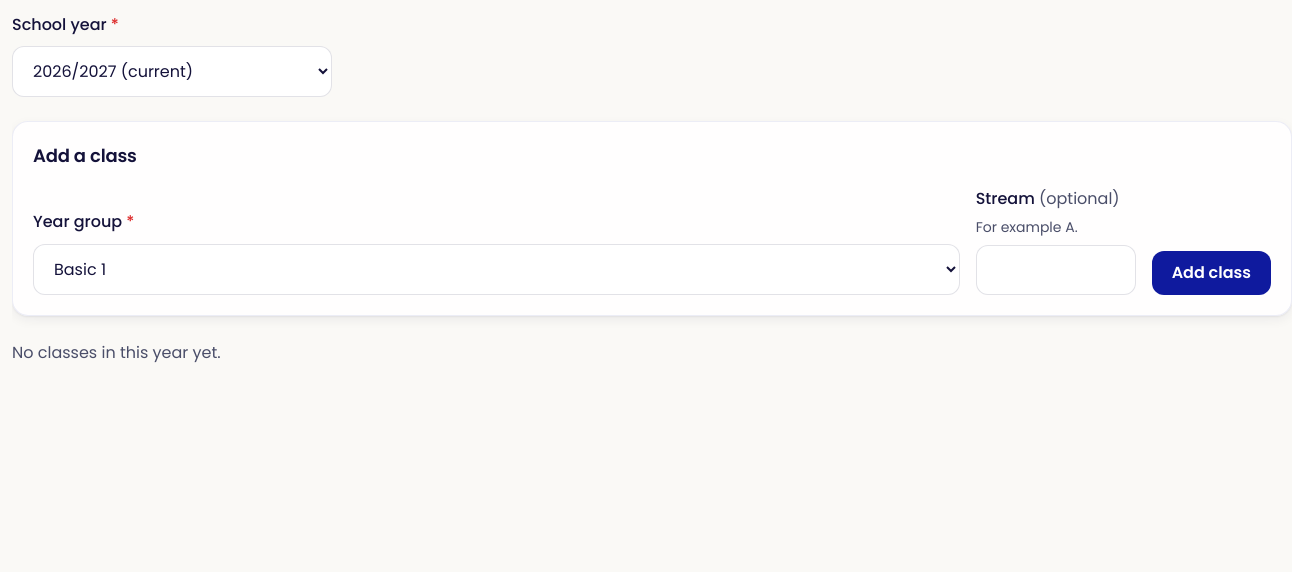
ClassesView › adds a class to the year
The width and height of the screenshot is (1292, 572).
Select "Basic 1" in the dropdown labelled "Year group *" at point(496, 269), box [33,244,960,295]
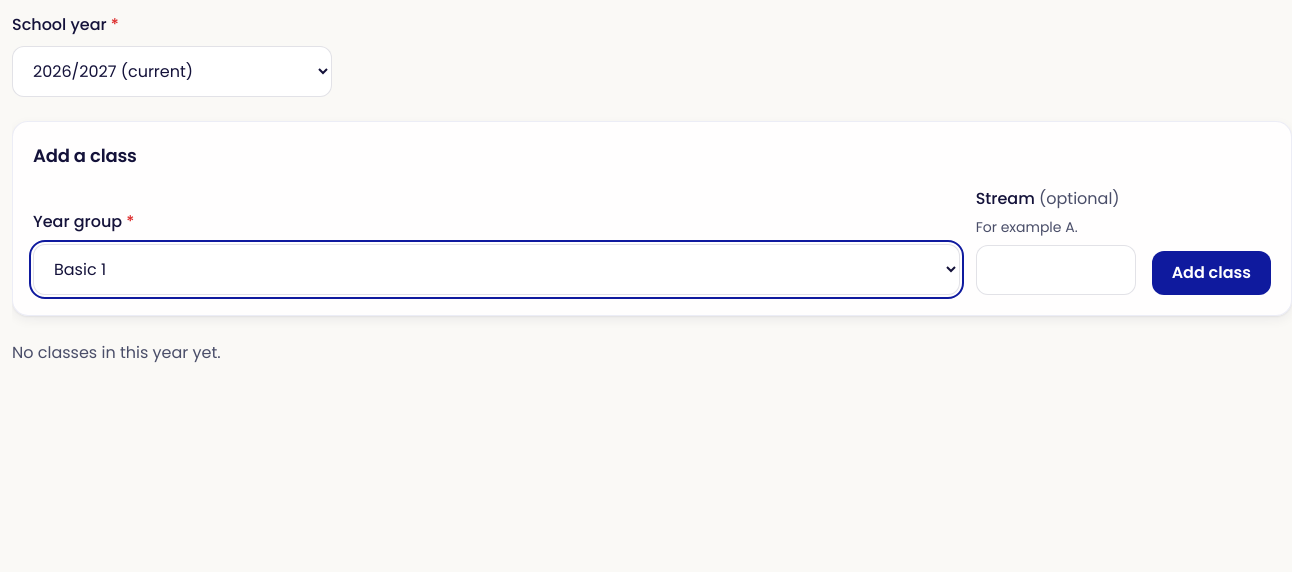
Click the button "Add class" at point(1211, 273), box [1152,251,1271,295]
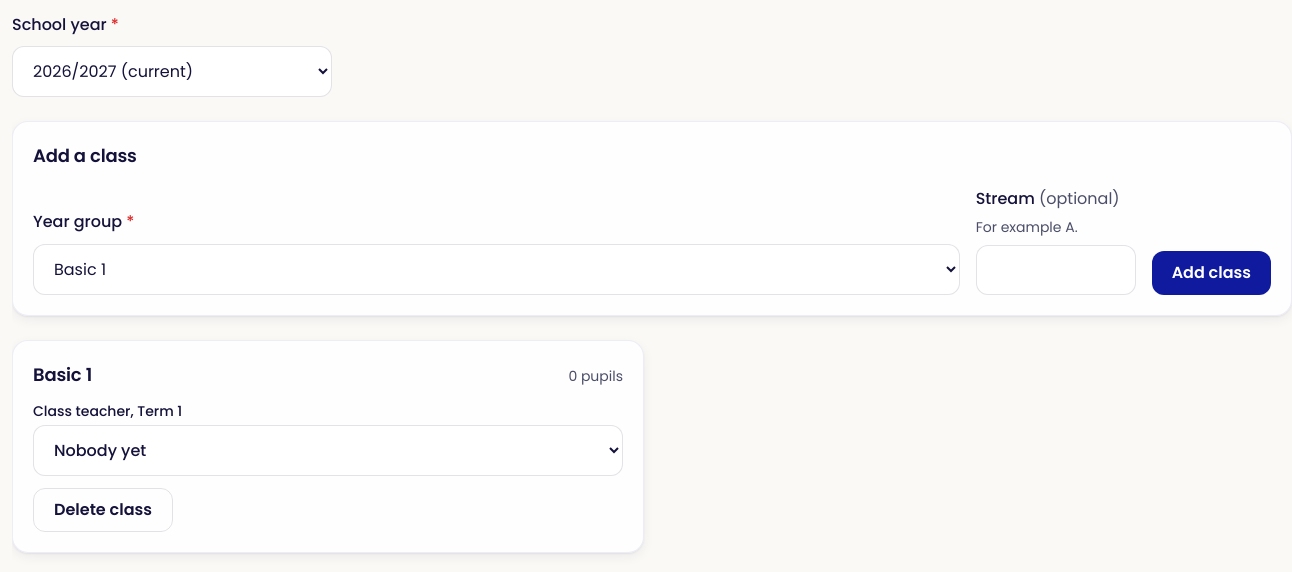
Check: the element "Basic 1" is shown, box [12,340,644,553]
